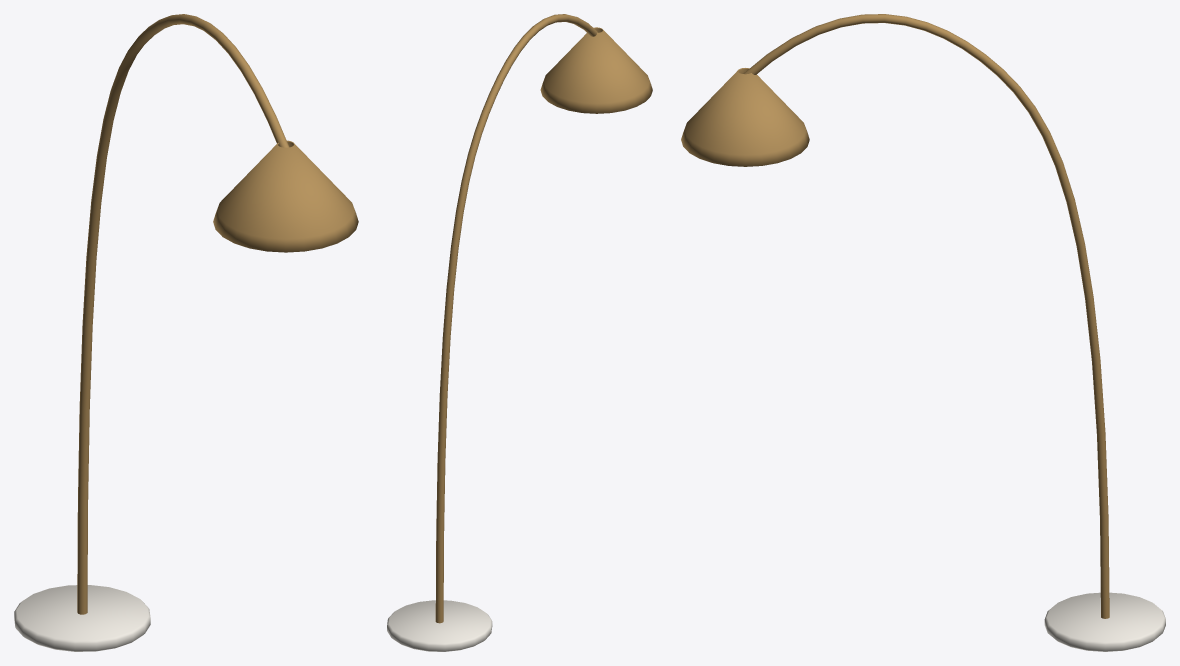
The model's file is i_flamp_1.glb.
3 views of the same model, side by side, from view 1: azimuth 30°, elevation 25°; view 2: azimuth 150°, elevation 25°; view 3: azimuth 270°, elevation 25° (orthographic). The views are drawn at different scales.
Parts seen in each view (by area): view 1: o.002, o.001, o; view 2: o.002, o.001, o; view 3: o.002, o.001, o.
Part boxes in pixels (left/top/right/bottom): o.002: left=213, top=140, right=358, bottom=252; o.001: left=77, top=14, right=289, bottom=614; o: left=14, top=585, right=150, bottom=651; o.002: left=540, top=27, right=652, bottom=113; o.001: left=435, top=14, right=598, bottom=623; o: left=387, top=600, right=492, bottom=651; o.002: left=681, top=68, right=809, bottom=166; o.001: left=743, top=14, right=1109, bottom=618; o: left=1044, top=592, right=1165, bottom=651.
Size of the model in its own units: 0.34 by 1.78 by 1.28.
